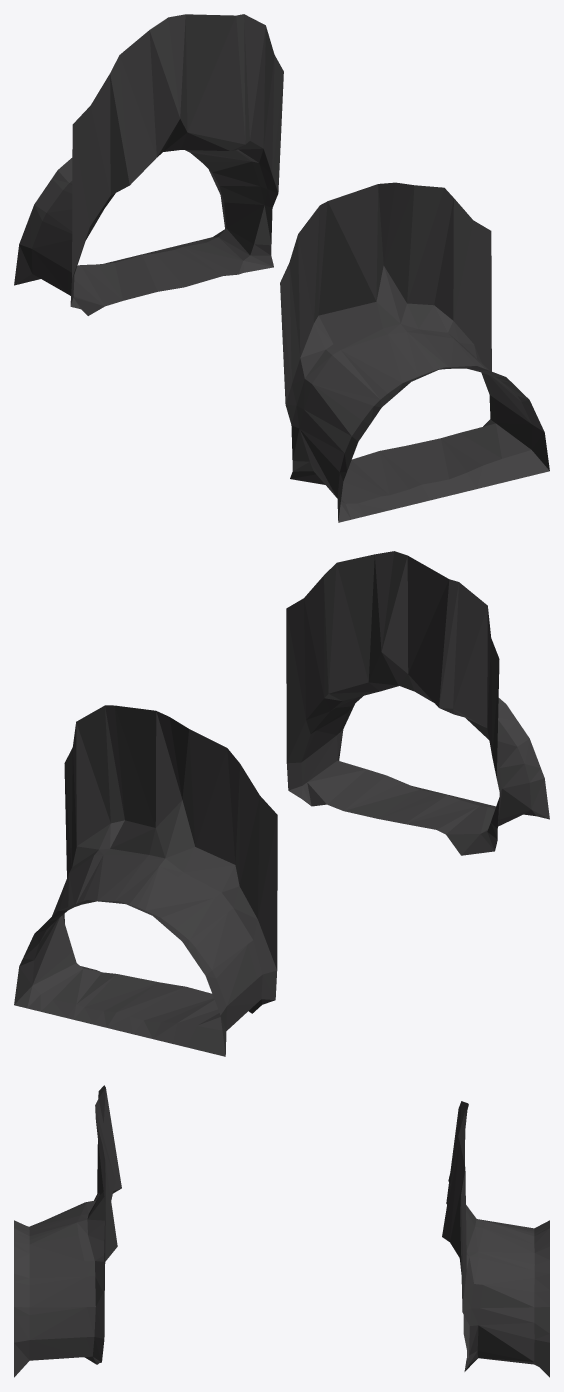
File: Cave_9A_LOD_2.fbx
The picture shows the model from 3 angles, top to bottom: view 1: azimuth 30°, elevation 25°; view 2: azimuth 150°, elevation 25°; view 3: azimuth 270°, elevation 25°; orthographic projection. The views are drawn at different scales.
Parts seen in each view (by area): view 1: polySurface1259; view 2: polySurface1259; view 3: polySurface1259.
Part boxes in pixels (left/top/right/bottom): polySurface1259: left=14, top=14, right=549, bottom=522; polySurface1259: left=14, top=551, right=549, bottom=1056; polySurface1259: left=14, top=1085, right=549, bottom=1377.
Size of the model in its own units: 8.56 by 10.72 by 21.9.
